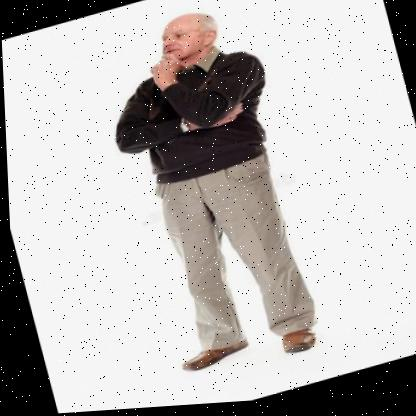person: (77, 0, 355, 396)
